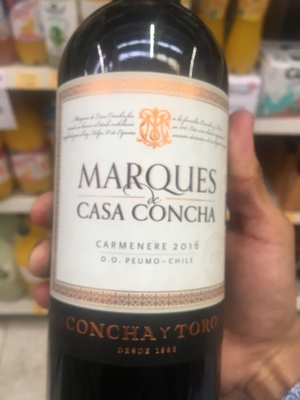marques de casa concha carmenere: (51, 9, 233, 392)
